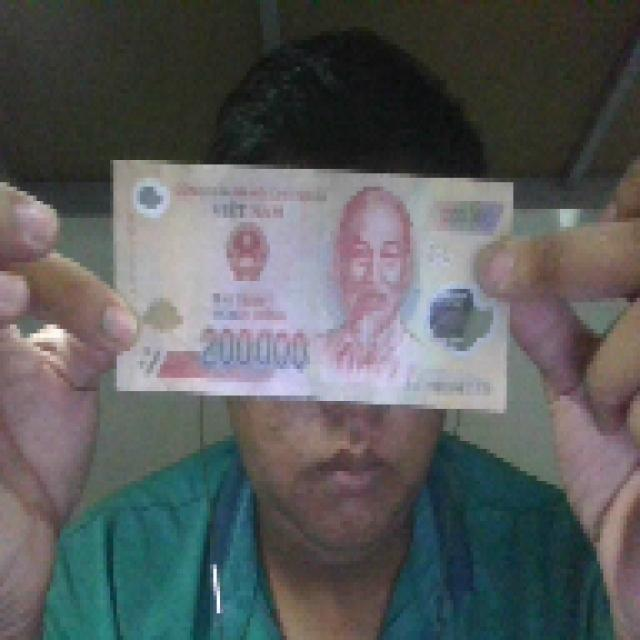200 000 VND: (106, 151, 516, 418)
